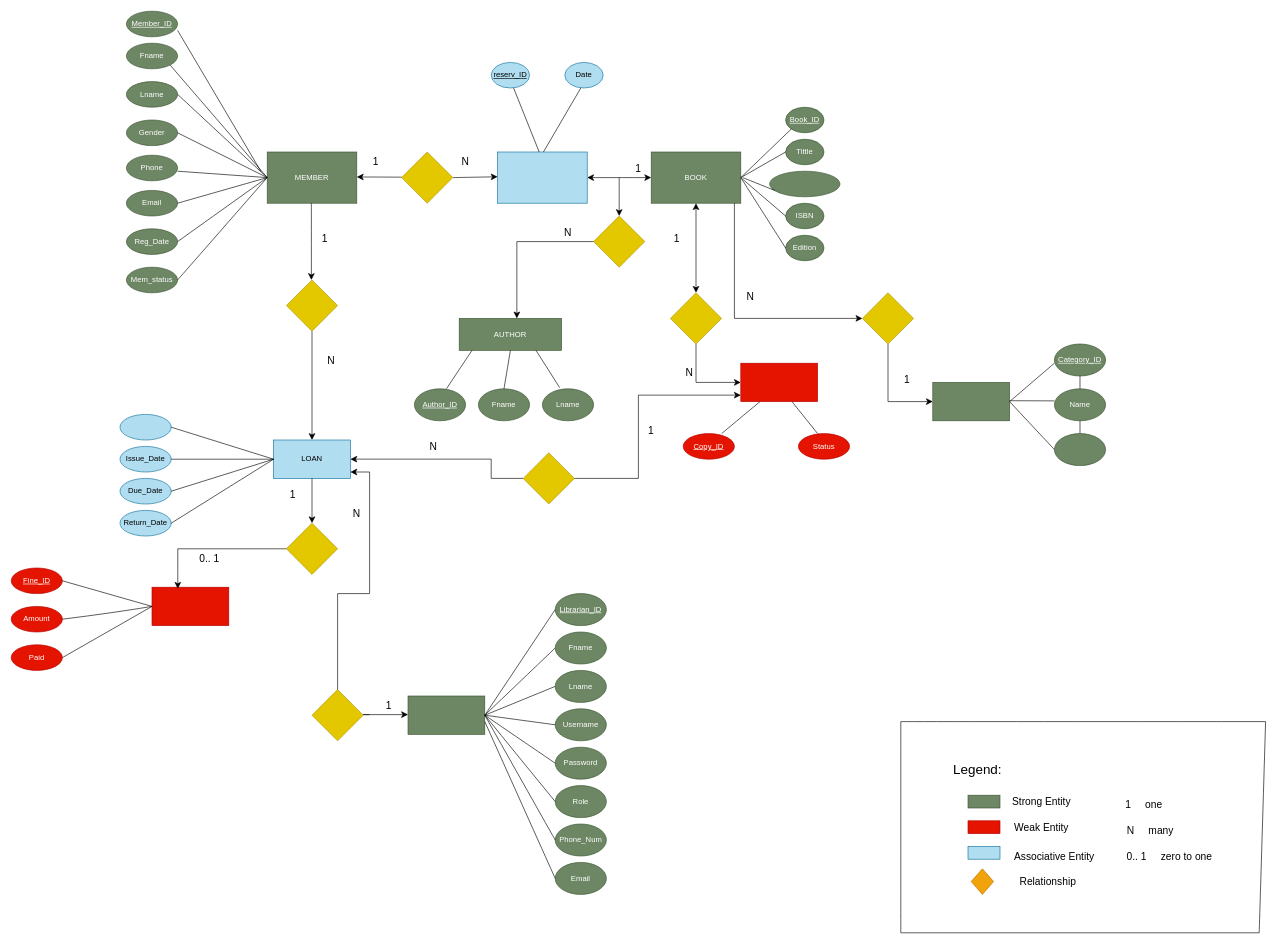
Some shapes in this 1277 by 945 pixel diagram are drawn without their labels. The shapes that lost their labels are listed below. From the top down, each one's centre as x and y in pixels, then its label:
At [427,177]: "Makes".
At [542,177]: "RESERVATION".
At [804,184]: "Publication_year".
At [619,241]: "is written by".
At [312,305]: "borrows".
At [696,318]: "Has".
At [888,318]: "belongs to".
At [779,382]: "BOOK_COPY".
At [971,401]: "CATEGORY".
At [145,427]: "Loan_ID".
At [1080,449]: "Description".
At [548,478]: "Involves".
At [312,548]: "generates".
At [190,606]: "FINE".
At [337,715]: "Processes".
At [446,714]: "LIBRARIAN".
